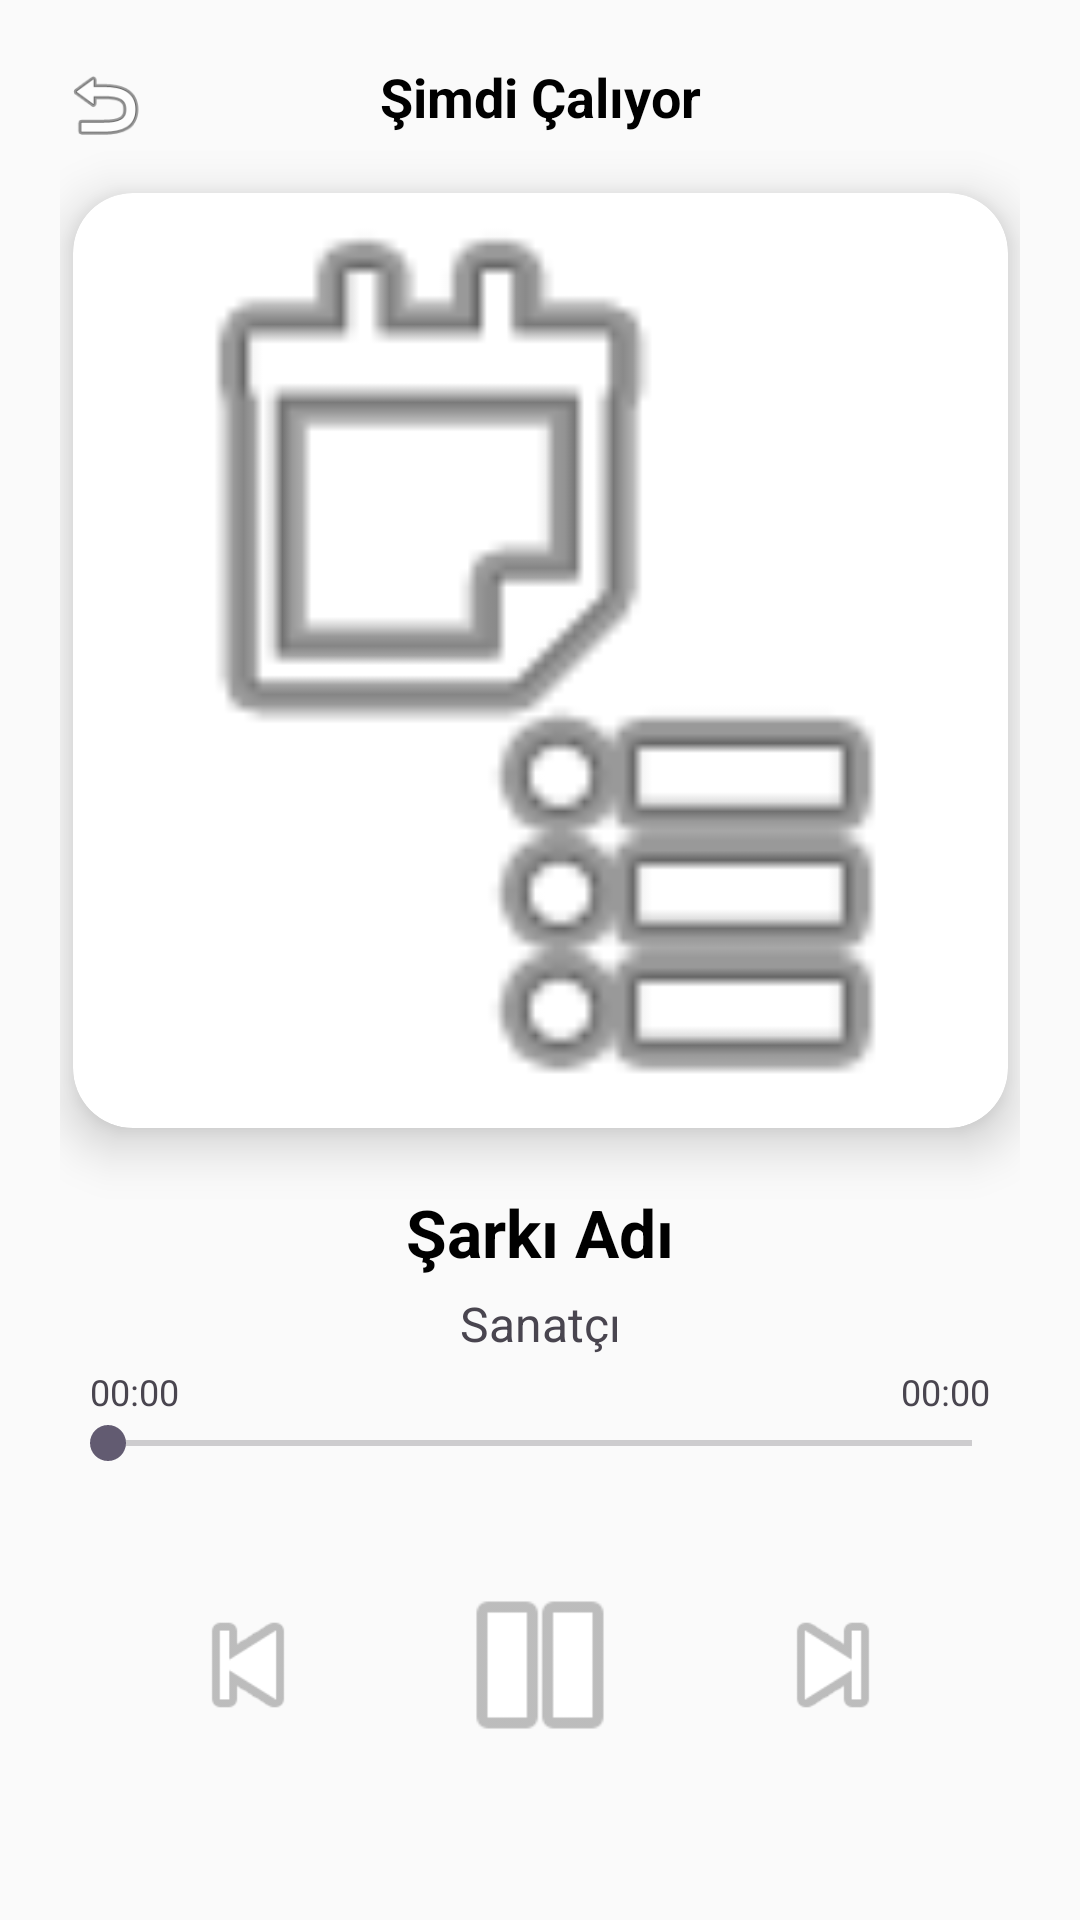

Icons on this 1080 × 1920 Android screen, each with its box as bbox(x1, y1, x2, y2):
next: bbox(797, 1623, 869, 1707)
pause: bbox(476, 1601, 604, 1729)
previous: bbox(212, 1623, 284, 1707)
revert: bbox(74, 76, 139, 135)
